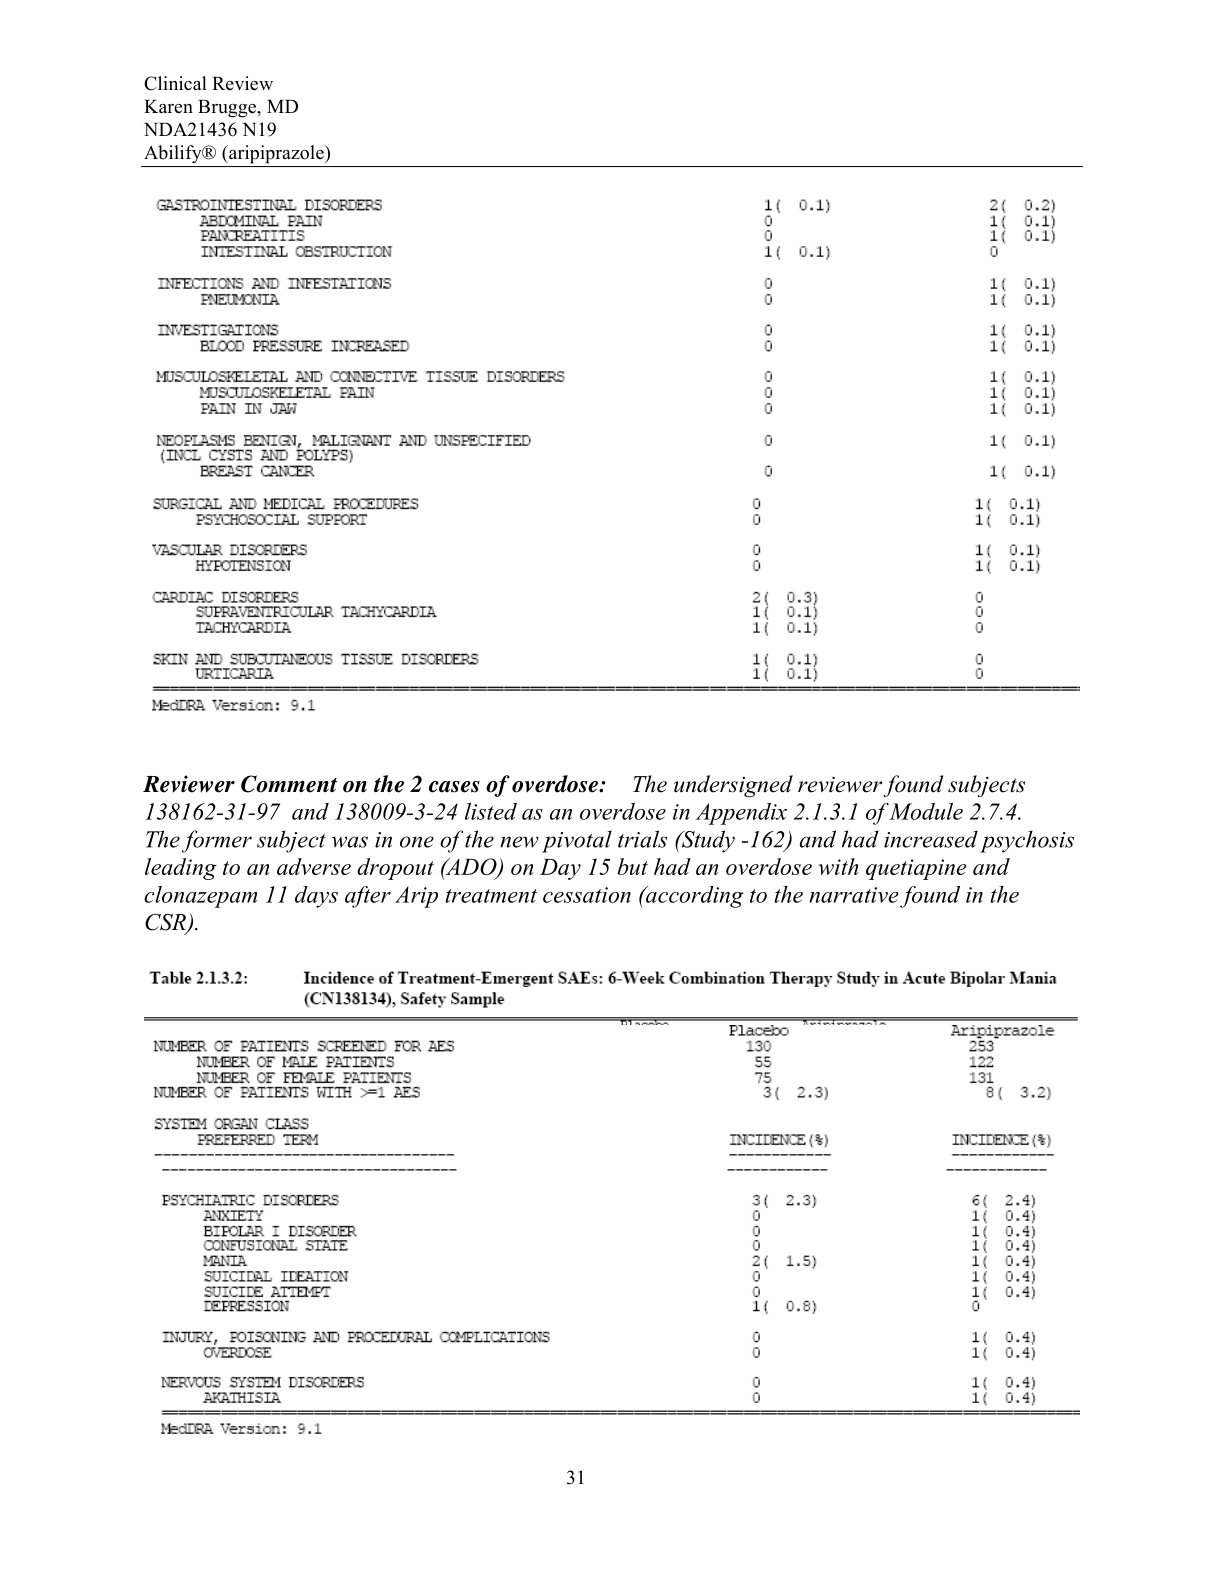partial_lined: (140, 162, 1086, 696), (141, 1014, 1080, 1416)
